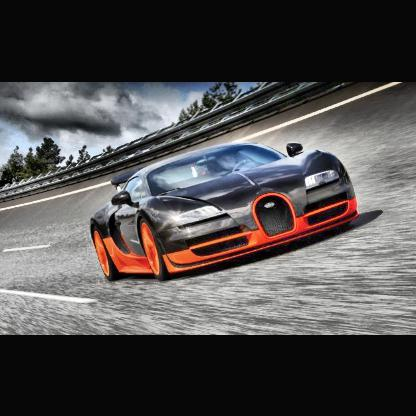Bugatti Veyron 16-4 Coupe 2009: (89, 139, 364, 283)
